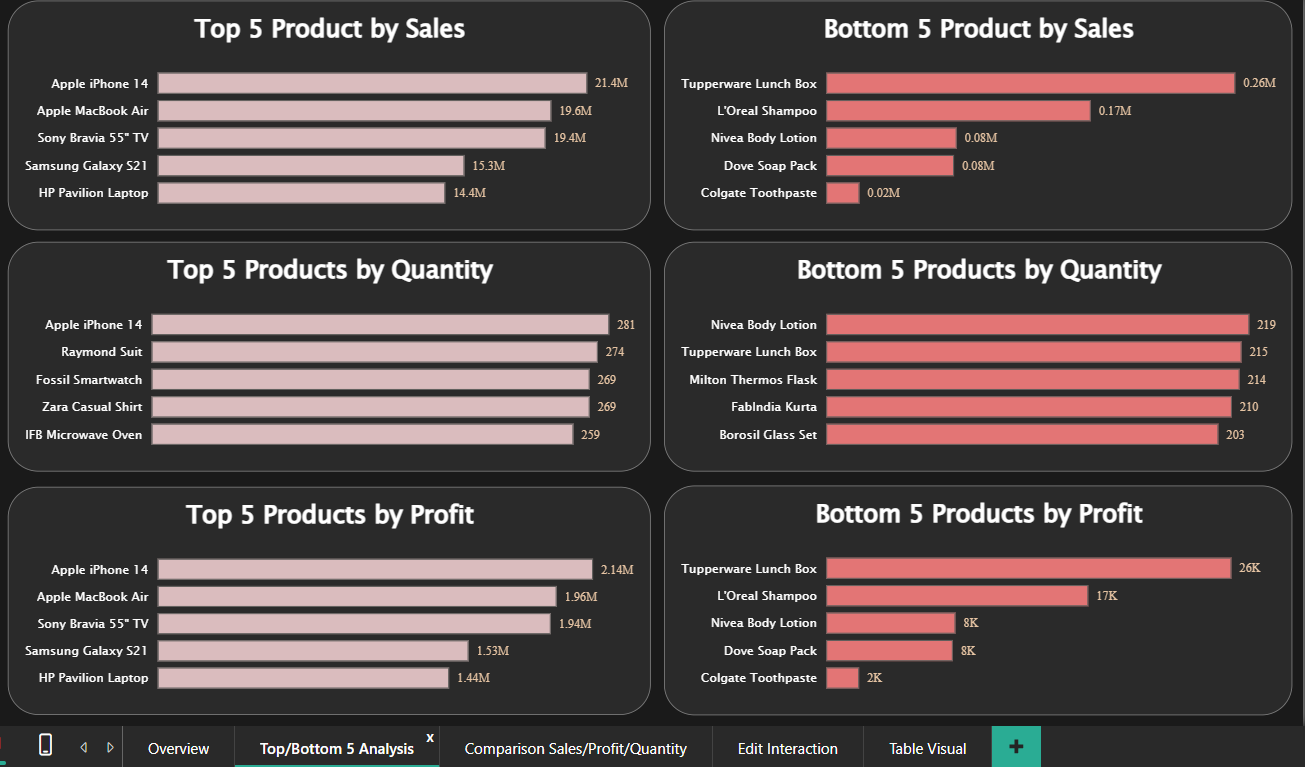

The page's visual inventory and layout, read from the dashboard file:
{"tool":"powerbi","page":{"name":"Top/Bottom 5 Analysis","canvas":[1280,720],"ordinal":1},"visuals":[{"type":"barChart","title":"Top 5 Product by Sales","fields":{"Category":["Dim Product.Product Name"],"Y":["Sum(Fact Table.Net Sales)"]},"box":[8.6,7.1,631.4,225.7],"z":0},{"type":"barChart","title":"Bottom 5 Product by Sales","fields":{"Category":["Dim Product.Product Name"],"Y":["Sum(Fact Table.Net Sales)"]},"box":[652.9,7.1,617.1,225.7],"z":1000},{"type":"barChart","title":"Top 5 Products by Quantity","fields":{"Category":["Dim Product.Product Name"],"Y":["Sum(Fact Table.Units Sold)"]},"box":[8.6,244.3,631.4,225.7],"z":2000},{"type":"barChart","title":"Bottom 5 Products by Quantity","fields":{"Category":["Dim Product.Product Name"],"Y":["Sum(Fact Table.Units Sold)"]},"box":[652.9,244.3,617.1,225.7],"z":3000},{"type":"barChart","title":"Top 5 Products by Profit","fields":{"Category":["Dim Product.Product Name"],"Y":["Sum(Fact Table.Profit)"]},"box":[8.6,484.3,631.4,224.3],"z":4000},{"type":"barChart","title":"Bottom 5 Products by Profit","fields":{"Category":["Dim Product.Product Name"],"Y":["Sum(Fact Table.Profit)"]},"box":[652.9,482.9,617.1,225.7],"z":5000}]}

Visuals, with their boxes on the page's 1280x720 design canvas (x1, y1, x2, y2). These are canvas units, not pixel positions in the 1305x767 screenshot, which may show the page scaled, cropped or inside an application window:
"Top 5 Product by Sales" barChart: [left=9, top=7, right=640, bottom=233]
"Bottom 5 Product by Sales" barChart: [left=653, top=7, right=1270, bottom=233]
"Top 5 Products by Quantity" barChart: [left=9, top=244, right=640, bottom=470]
"Bottom 5 Products by Quantity" barChart: [left=653, top=244, right=1270, bottom=470]
"Top 5 Products by Profit" barChart: [left=9, top=484, right=640, bottom=709]
"Bottom 5 Products by Profit" barChart: [left=653, top=483, right=1270, bottom=709]
